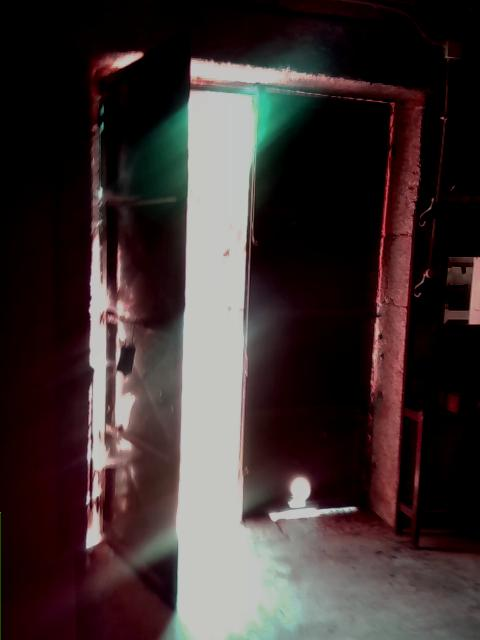semi_door: (78, 16, 423, 617)
